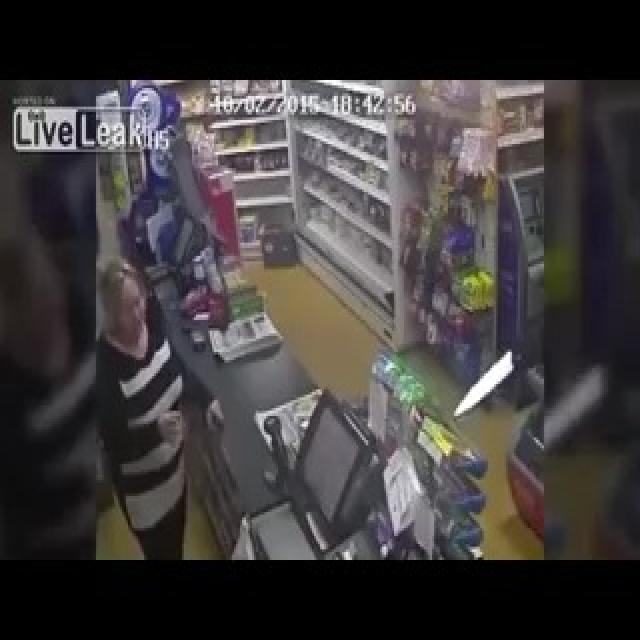Shoplifting: (422, 256, 546, 476)
